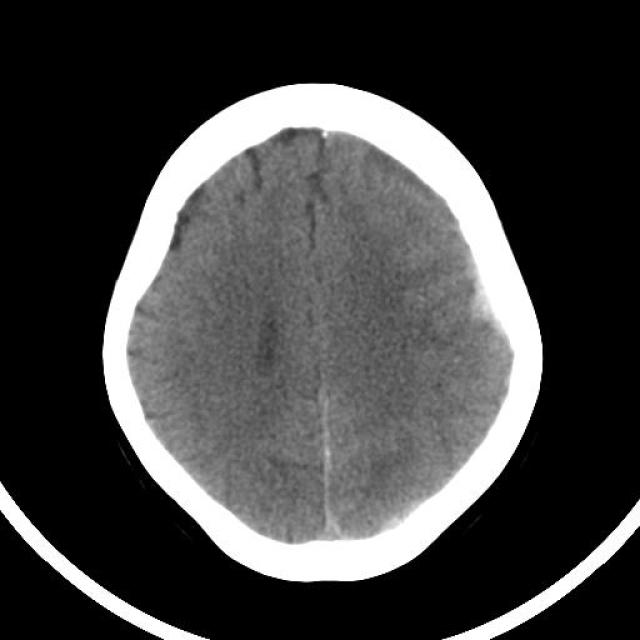Subdural: (423, 212, 532, 356)
